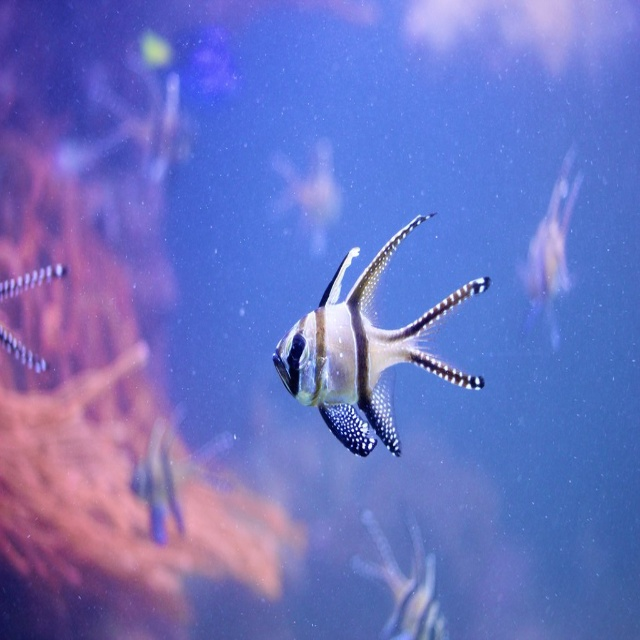Fish: (276, 213, 487, 463), (130, 401, 245, 548), (348, 498, 454, 639), (523, 168, 576, 317), (0, 258, 68, 371)
